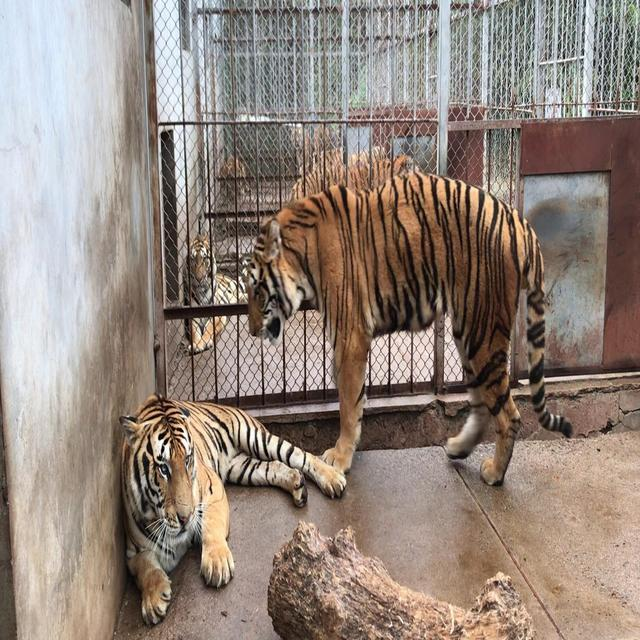tiger: (240, 132, 573, 490), (117, 392, 347, 626), (178, 232, 249, 356)
